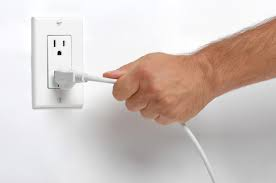outlet: (52, 38, 66, 56)
